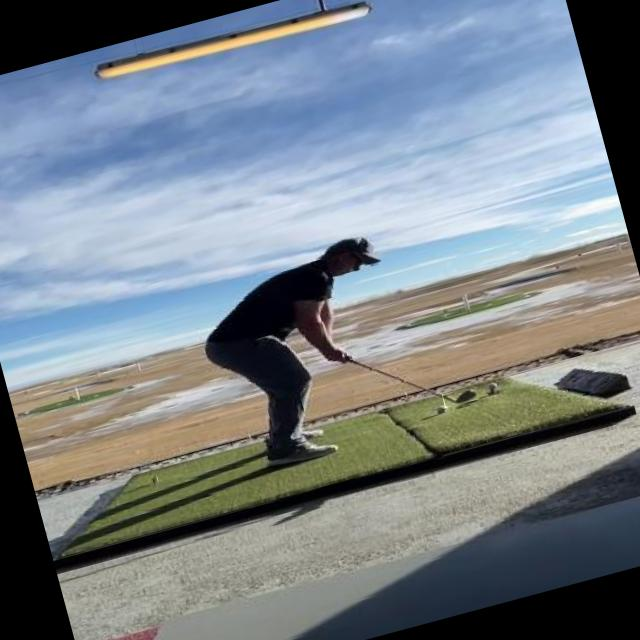club head: (442, 385, 478, 408)
